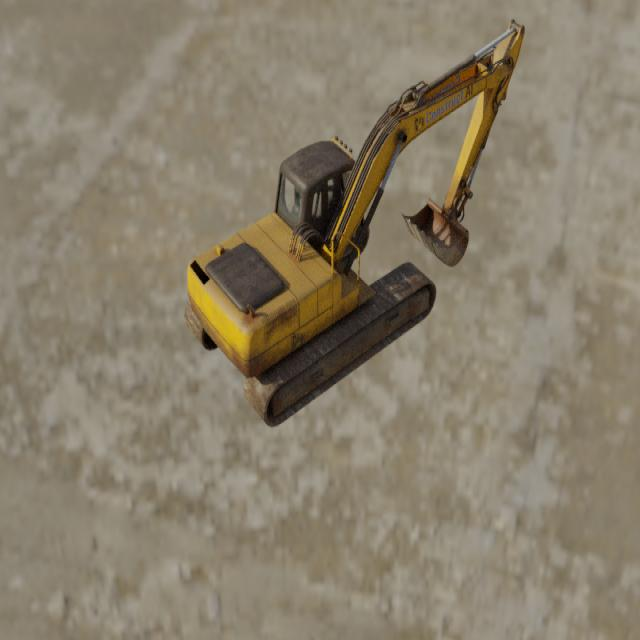excavator: (183, 17, 525, 427)
